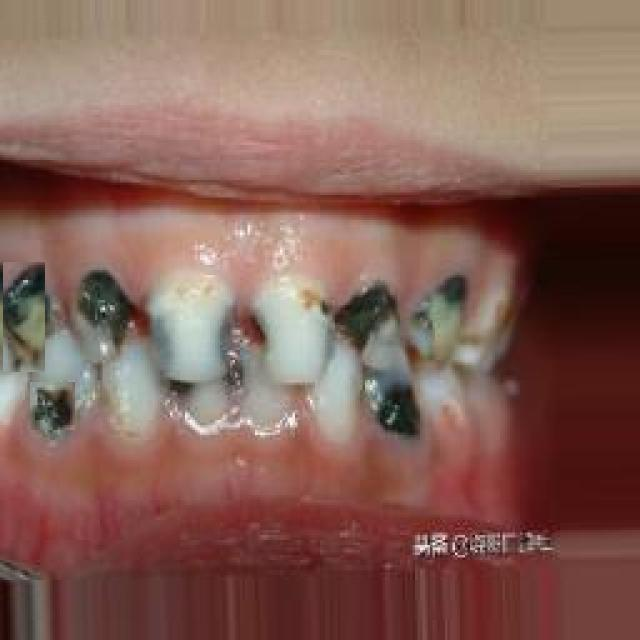decay: (3, 263, 45, 373), (368, 370, 420, 438), (330, 290, 395, 335), (30, 382, 75, 430), (425, 292, 460, 350), (83, 288, 123, 333), (228, 330, 250, 405)
